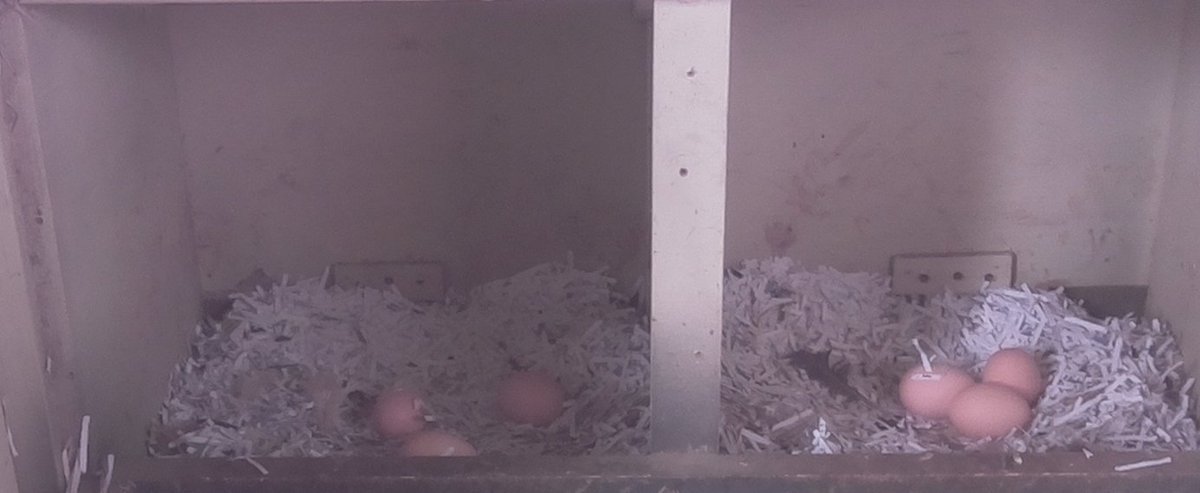egg: (946, 379, 1036, 442), (893, 359, 978, 425), (492, 366, 573, 432), (977, 346, 1050, 406), (365, 384, 432, 438), (396, 428, 487, 461)
